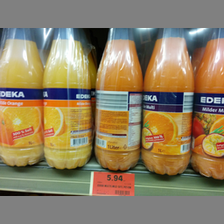juice: (142, 29, 195, 176), (92, 28, 144, 173), (42, 28, 92, 170), (1, 29, 43, 168)
